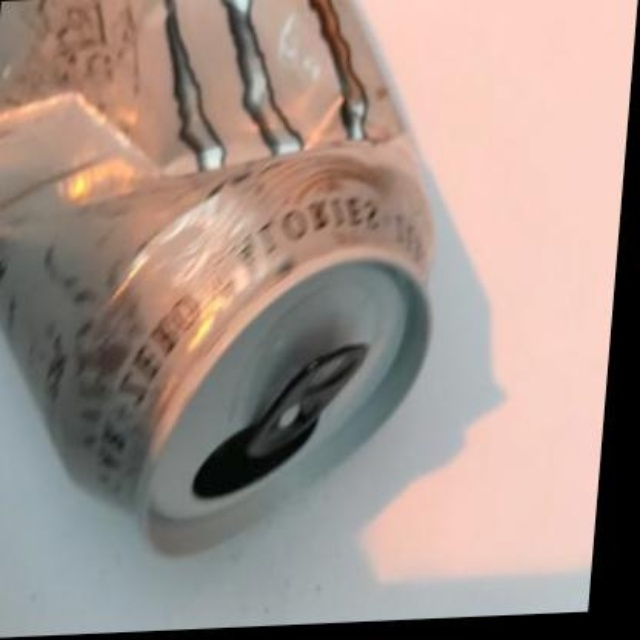trash: (0, 0, 431, 517)
